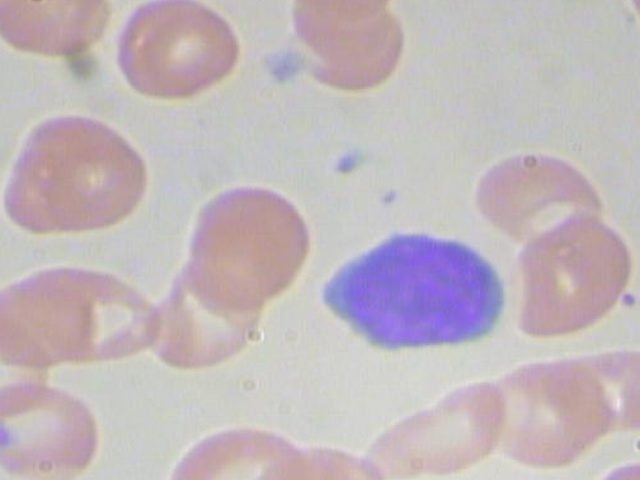Platelets: (263, 46, 307, 82), (326, 145, 369, 178)
RBC: (132, 242, 275, 375), (506, 209, 640, 341), (358, 371, 510, 480), (470, 139, 613, 250), (499, 346, 621, 469), (30, 114, 150, 239), (275, 0, 426, 99), (115, 0, 246, 109), (190, 184, 312, 292), (0, 369, 111, 480), (0, 263, 103, 369), (156, 416, 308, 480), (0, 0, 115, 60), (607, 337, 640, 443), (616, 0, 640, 49)
WBC: (306, 226, 511, 356)
